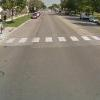Crosswalk: (3, 32, 94, 55)
